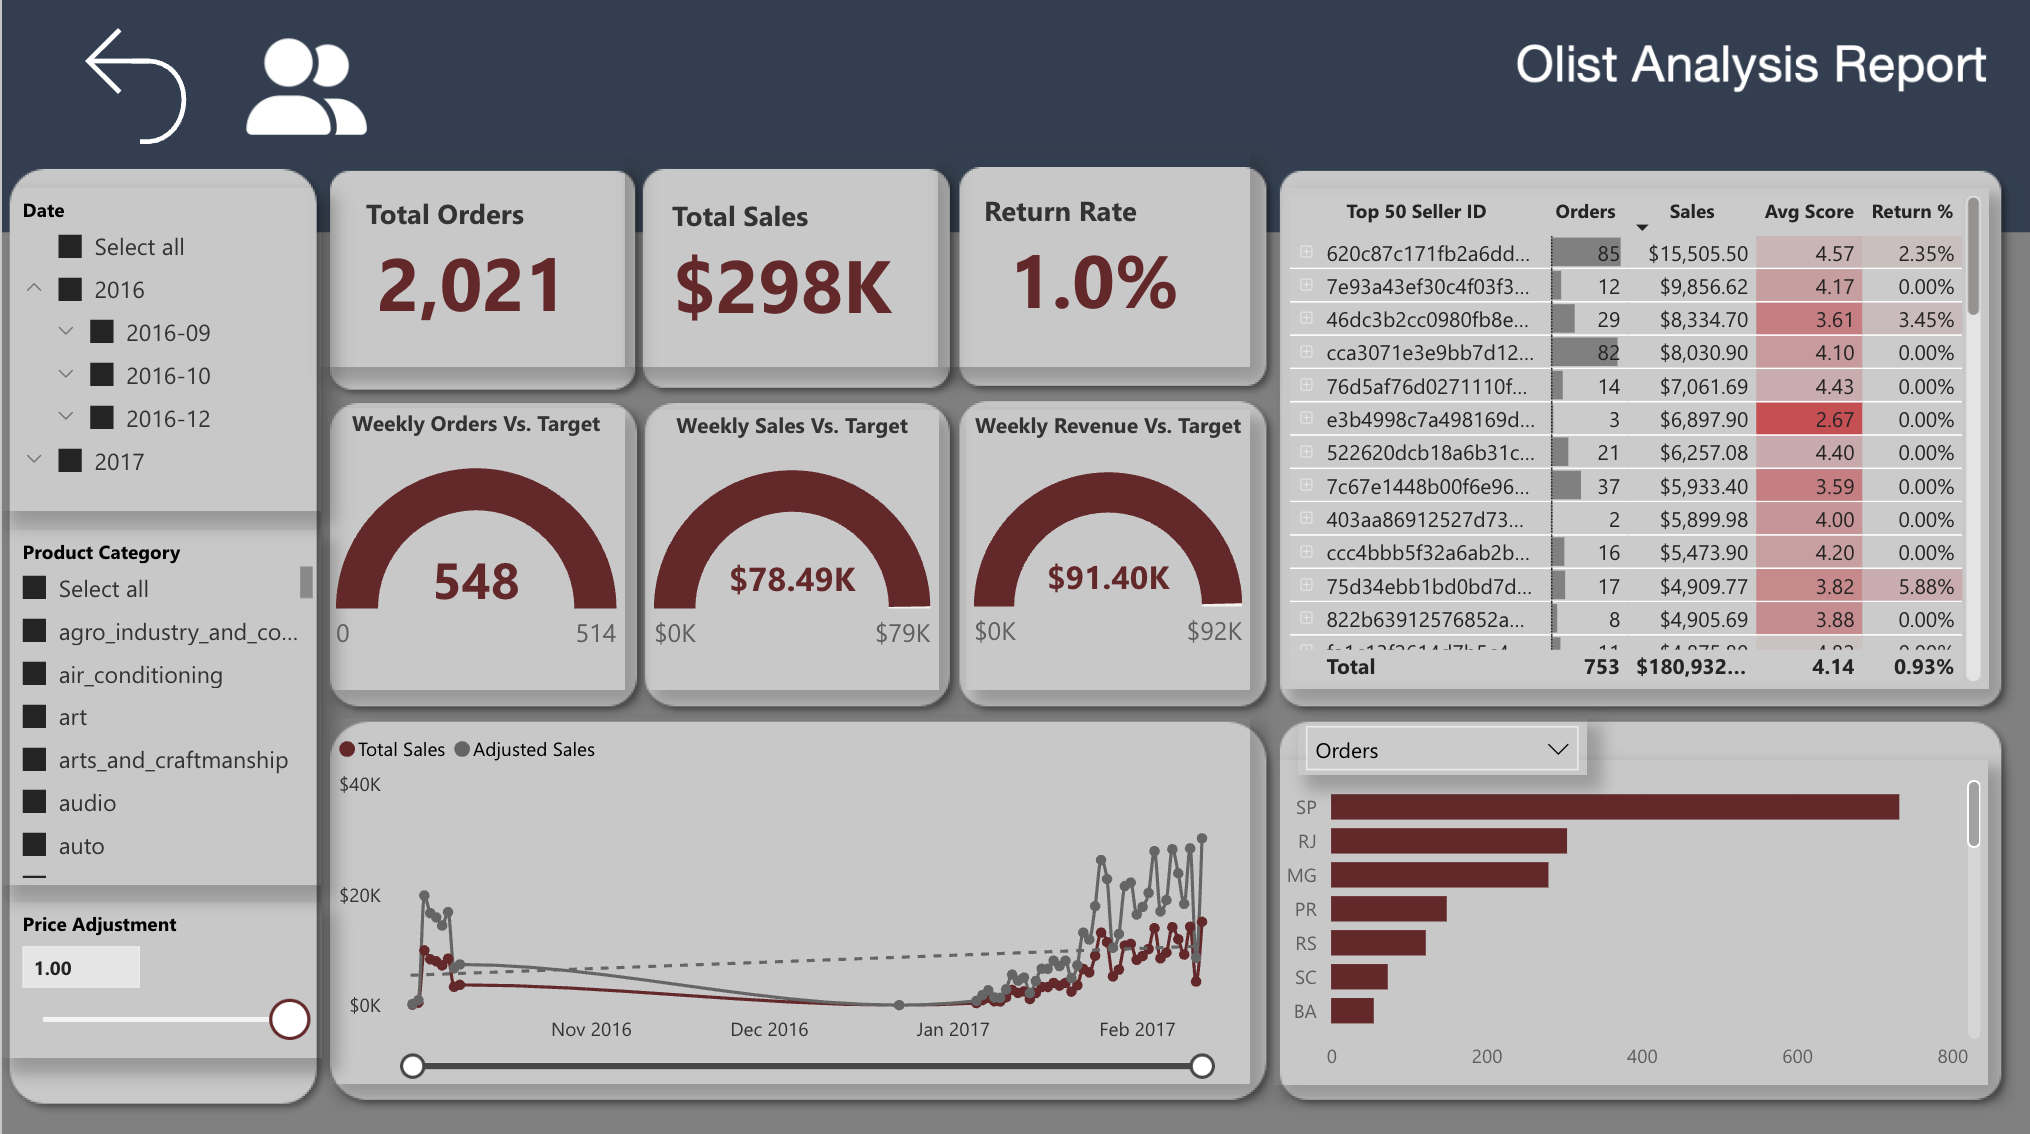

This screenshot's page, from the dashboard's own definition file:
{"tool":"powerbi","page":{"name":"Dashboard","canvas":[1280,720],"ordinal":0},"visuals":[{"type":"cardVisual","fields":{"Data":["Measure Table.Total Orders"]},"box":[201,99.8,192,131.8],"z":0},{"type":"cardVisual","fields":{"Data":["Measure Table.Total Sales"]},"box":[393,102.4,197.1,129.3],"z":1000},{"type":"cardVisual","fields":{"Data":["Measure Table.Return Rate"]},"box":[590.1,96,197.1,135.7],"z":2000},{"type":"slicer","fields":{"Values":["Date_Table.Date Hierarchy.Year","Date_Table.Date Hierarchy.StartOfMonth","Date_Table.Date Hierarchy.StartOfWeek","Date_Table.Date Hierarchy.Date"]},"box":[0,119,201,203.5],"z":3000},{"type":"slicer","fields":{"Values":["product_category_bz.product_category_name_english"]},"box":[0,334.1,201,224],"z":4000},{"type":"gauge","title":"Weekly Orders Vs. Target","fields":{"Y":["Measure Table.Total Orders"],"MaxValue":["Measure Table.Weekly Orders Target"]},"box":[206.1,257.3,186.9,177.9],"z":5000},{"type":"gauge","title":"Weekly Sales Vs. Target","fields":{"Y":["Measure Table.Total Sales"],"MaxValue":["Measure Table.Weekly Sales Target"]},"box":[405.8,258.6,184.3,176.6],"z":6000},{"type":"gauge","title":"Weekly Revenue Vs. Target","fields":{"Y":["Measure Table.Total Revenue"],"MaxValue":["Measure Table.Weekly Revenue Target"]},"box":[608,258.6,179.2,176.6],"z":7000},{"type":"lineChart","fields":{"Category":["Date_Table.Date Hierarchy.Year","Date_Table.Date Hierarchy.StartOfMonth","Date_Table.Date Hierarchy.StartOfWeek","Date_Table.Date Hierarchy.Date"],"Y":["Measure Table.Total Sales","Price Adjustment.Adjusted Sales"]},"box":[207.4,453.1,579.8,230.4],"z":8000},{"type":"slicer","fields":{"Values":["Price Adjustment.Price Adjustment"]},"box":[0,568.3,202.2,98.6],"z":9000},{"type":"pivotTable","fields":{"Rows":["seller_bz.seller_id","product_category_bz.product_category_name_english"],"Values":["Measure Table.Total Orders","Measure Table.Total Sales","Measure Table.AvgScore","Measure Table.Return Rate"]},"box":[807.7,119,445.4,316.2],"z":10000},{"type":"barChart","fields":{"Y":["Measure Table.Total Orders"],"Category":["customer_bz.customer_state"]},"box":[802.6,478.7,450.6,204.8],"z":11000},{"type":"slicer","fields":{"Values":["States Metrics Selection.States Metrics Selection"]},"box":[816.6,453.1,181.8,35.8],"z":12000},{"type":"actionButton","box":[150.7,12,102.7,84],"z":13000},{"type":"actionButton","box":[39.7,9,110.1,90.9],"z":14000}]}

Visuals, with their boxes in screenshot pixels (x1, y1, x2, y2), scaled from the page's 1280x720 canvas onto the 2030x1134 screenshot:
cardVisual - Measure Table.Total Orders: <box>319,157,623,365</box>
cardVisual - Measure Table.Total Sales: <box>623,161,936,365</box>
cardVisual - Measure Table.Return Rate: <box>936,151,1248,365</box>
slicer - Date_Table.Date Hierarchy.Year x Date_Table.Date Hierarchy.StartOfMonth: <box>0,187,319,508</box>
slicer - product_category_bz.product_category_name_english: <box>0,526,319,879</box>
"Weekly Orders Vs. Target" gauge: <box>327,405,623,685</box>
"Weekly Sales Vs. Target" gauge: <box>644,407,936,685</box>
"Weekly Revenue Vs. Target" gauge: <box>964,407,1248,685</box>
lineChart - Date_Table.Date Hierarchy.Year x Date_Table.Date Hierarchy.StartOfMonth: <box>329,714,1248,1077</box>
slicer - Price Adjustment.Price Adjustment: <box>0,895,321,1050</box>
pivotTable - seller_bz.seller_id x product_category_bz.product_category_name_english: <box>1281,187,1987,685</box>
barChart - Measure Table.Total Orders x customer_bz.customer_state: <box>1273,754,1987,1077</box>
slicer - States Metrics Selection.States Metrics Selection: <box>1295,714,1583,770</box>
actionButton: <box>239,19,402,151</box>
actionButton: <box>63,14,238,157</box>
